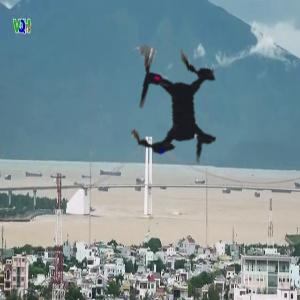drone: (78, 12, 269, 203)
